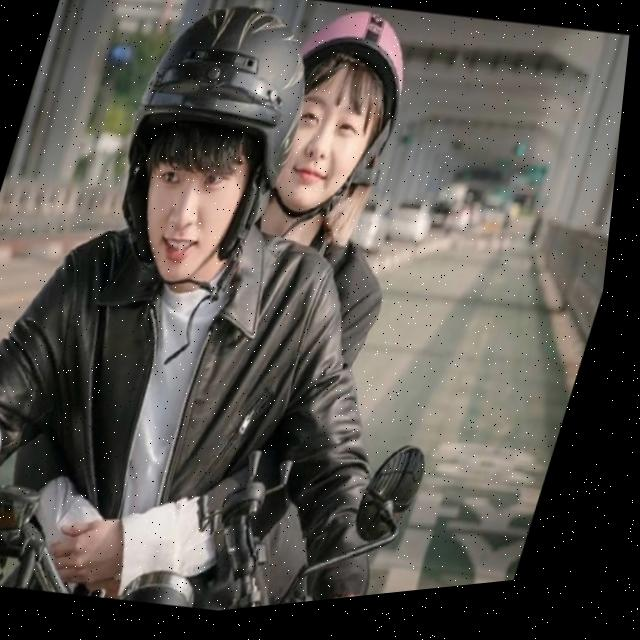helmet: (83, 0, 334, 317), (243, 0, 437, 252)
